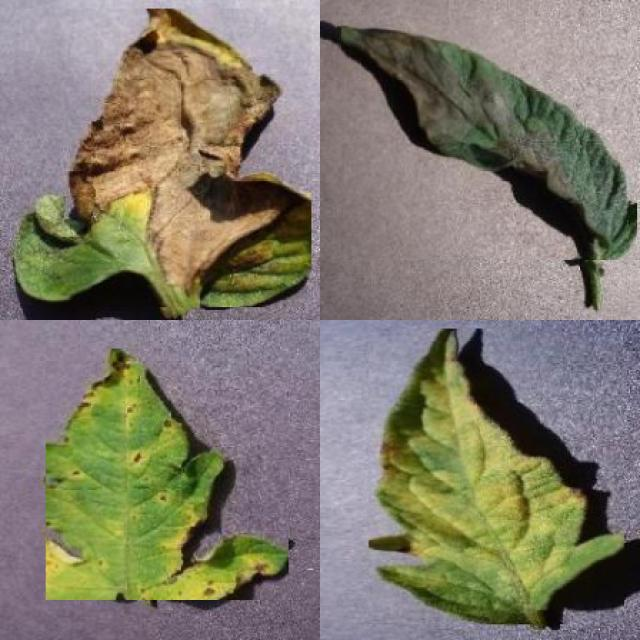Late Blight: (15, 9, 312, 307), (337, 26, 637, 260)
Leaf Mold: (369, 329, 624, 624)
Septoria: (46, 348, 288, 600)
